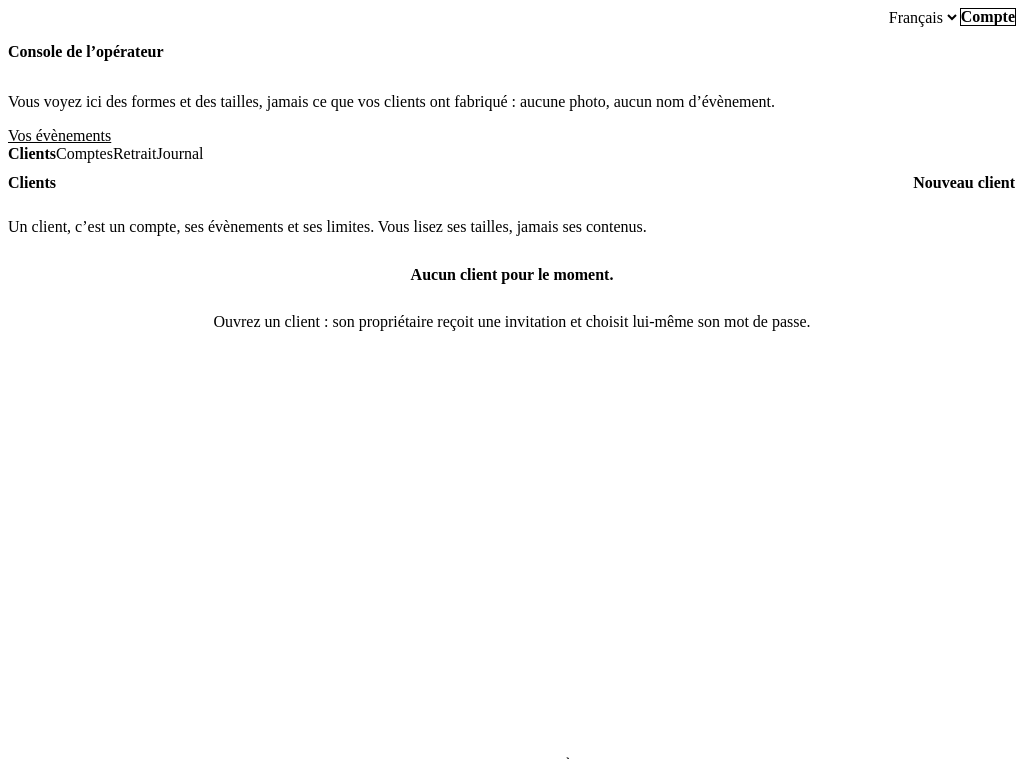
Test: the console’s sections › walks from one section to the next without leaving the console’s layout
Expected: the heading "Clients" is shown, [8,174,56,192]
Click the link "Journal". click: click(180, 154)
box: [156,145,204,163]
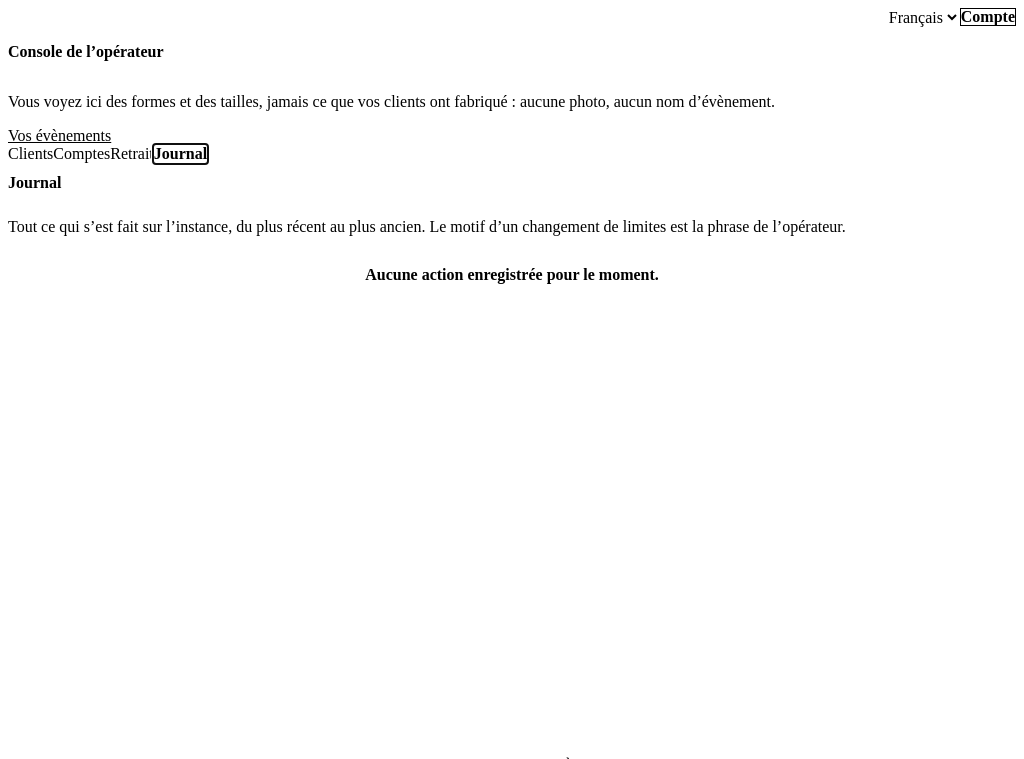
Expected: the text "Vous voyez ici des formes et des tailles, jamais ce que vos clients ont fabriqué : aucune photo, aucun nom d’évènement." is shown, [8,93,775,110]
Expected: the heading "Journal" is shown, [8,174,61,191]
